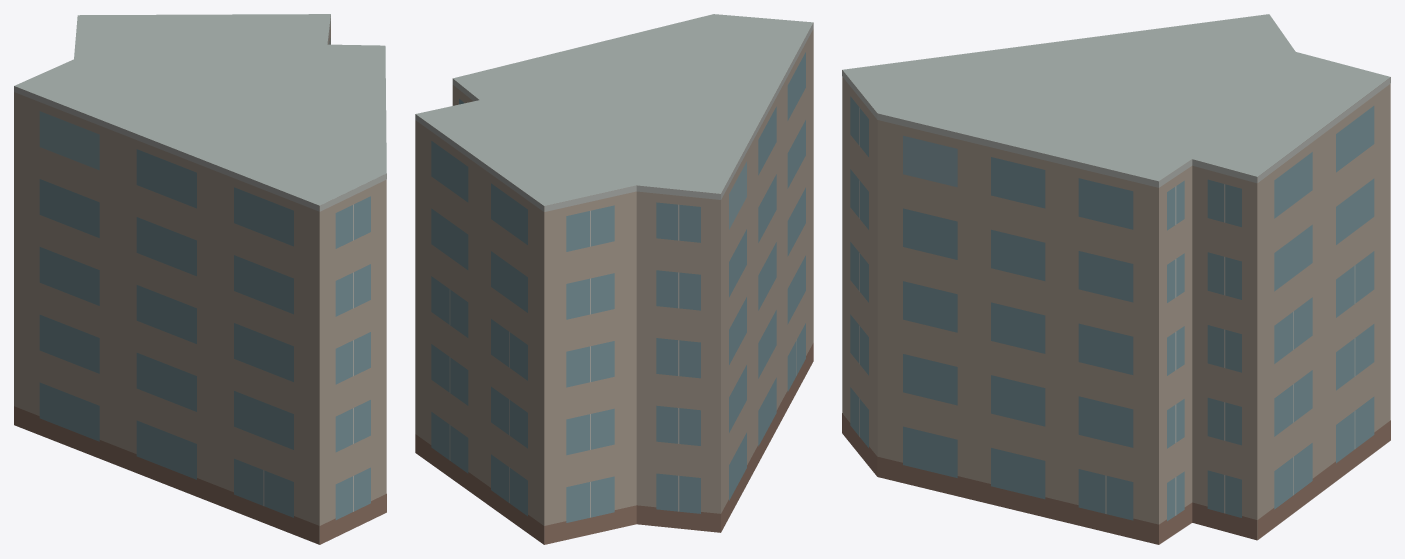
File: survey-upis-32980217.glb
The picture shows the model from 3 angles, left to right: view 1: azimuth 30°, elevation 25°; view 2: azimuth 150°, elevation 25°; view 3: azimuth 270°, elevation 25°; orthographic projection. The views are drawn at different scales.
Visible parts, largest first — view 1: survey-upis-32980217.tmp; view 2: survey-upis-32980217.tmp; view 3: survey-upis-32980217.tmp.
Boxes of the visible parts, <box> form: survey-upis-32980217.tmp: <box>14,14,386,544</box>; survey-upis-32980217.tmp: <box>415,14,813,544</box>; survey-upis-32980217.tmp: <box>842,14,1390,544</box>.
Size of the model in its own units: 13.44 by 13.6 by 18.61.
